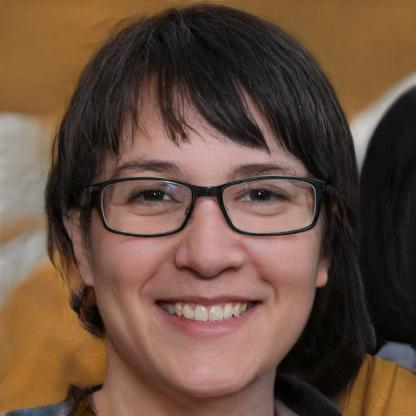glasses: (92, 173, 323, 242)
